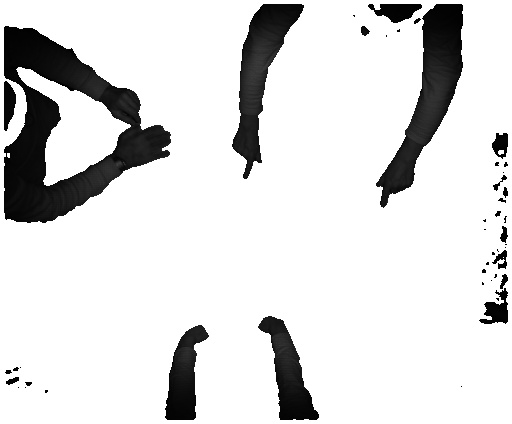fist: (256, 312, 295, 337), (185, 320, 215, 349)
hand: (118, 124, 174, 180), (376, 153, 423, 207), (232, 124, 263, 183), (103, 86, 145, 128)
